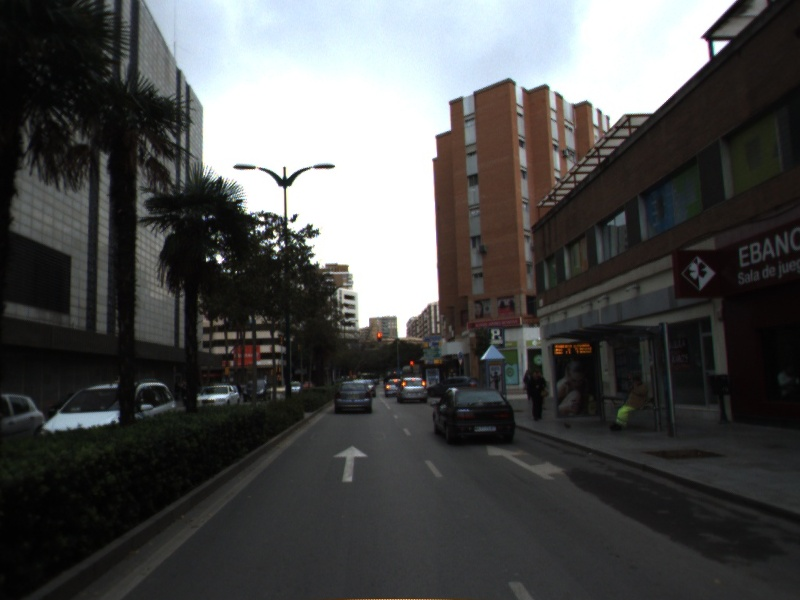STRAIGHT: (331, 444, 370, 484)
STRAIGHT_RIGHT: (485, 443, 569, 482)
